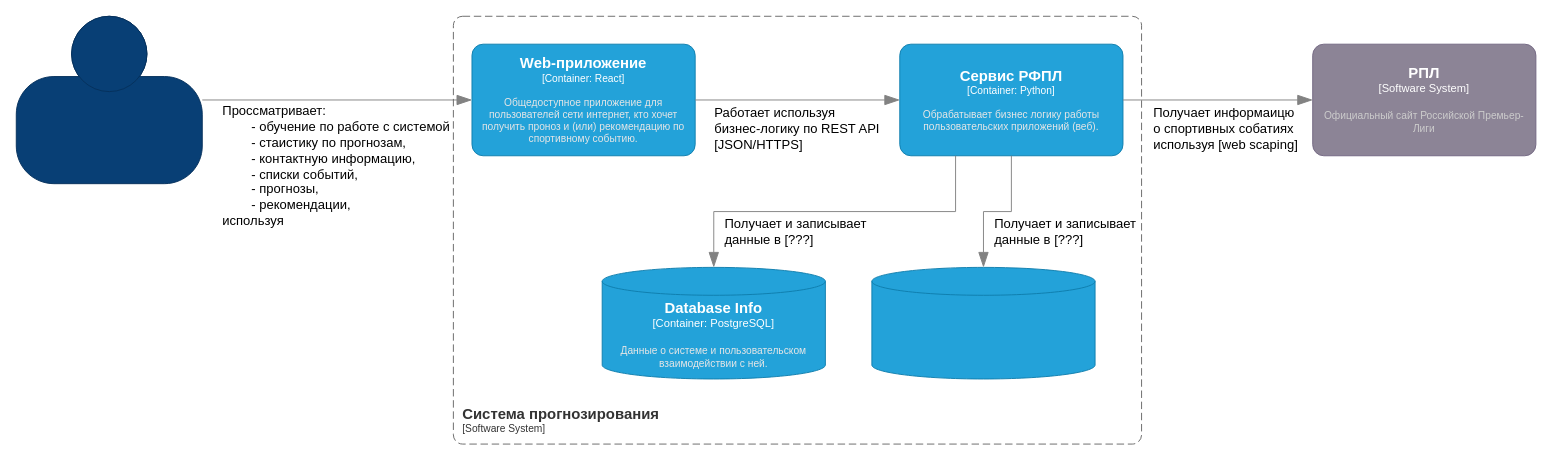
The diagram is 1552 pixels wide and 460 high, and some of its shapes have lost their labels. Each missing label, with the centre of its shape:
Database РФПЛ [Container: PostgreSQL] Данные о спортивных событиях и прогнозах.: pixel 983 322
Группа пользователей [Person] Внешние заинтересованные лица: pixel 108 99
